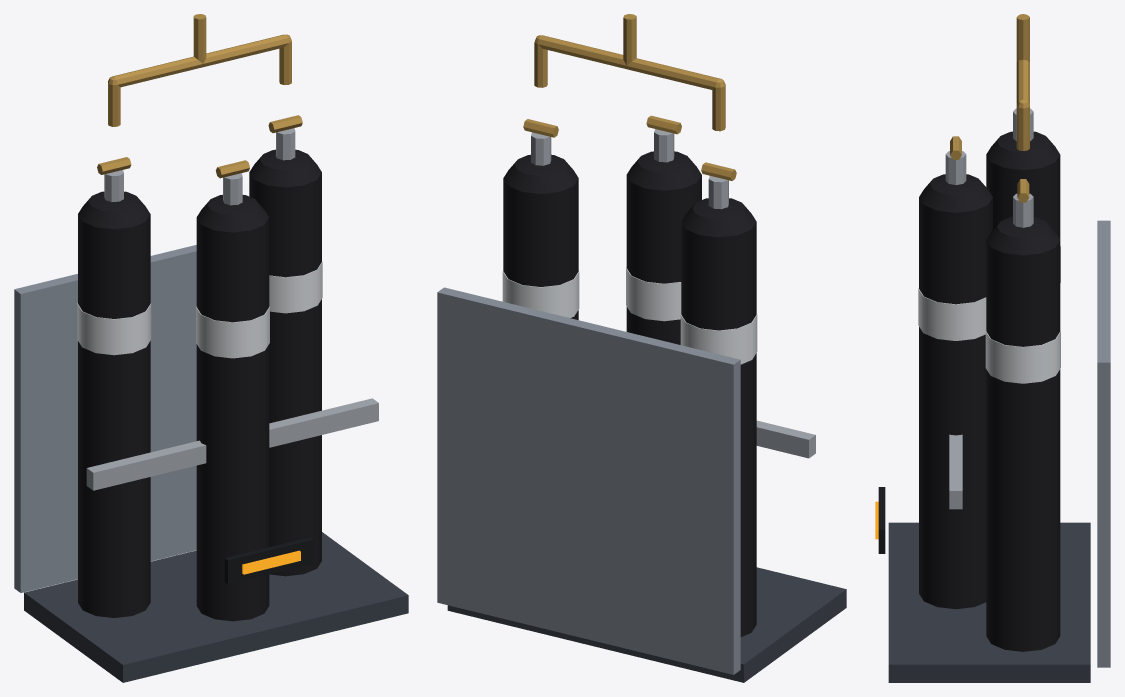
Rendered from cylinder_nitrogen_cylinder_trio.glb.
3 renders of one model, left to right at view 1: azimuth 30°, elevation 25°; view 2: azimuth 150°, elevation 25°; view 3: azimuth 270°, elevation 25°, orthographic. The views are drawn at different scales.
Parts seen in each view (by area): view 1: cylinder_nitrogen_cylinder_trio; view 2: cylinder_nitrogen_cylinder_trio; view 3: cylinder_nitrogen_cylinder_trio.
Boxes of the visible parts, x1=… form: cylinder_nitrogen_cylinder_trio: x1=14, y1=14, x2=408, y2=682; cylinder_nitrogen_cylinder_trio: x1=437, y1=14, x2=846, y2=682; cylinder_nitrogen_cylinder_trio: x1=875, y1=14, x2=1110, y2=682.
Size of the model in its own units: 1 by 1.95 by 0.7.
